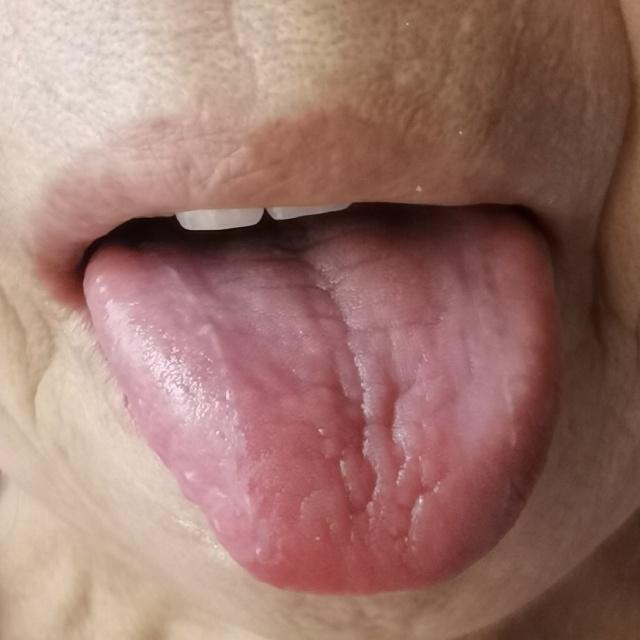hongshe: (81, 246, 565, 596)
liewenshe: (328, 370, 436, 549)
